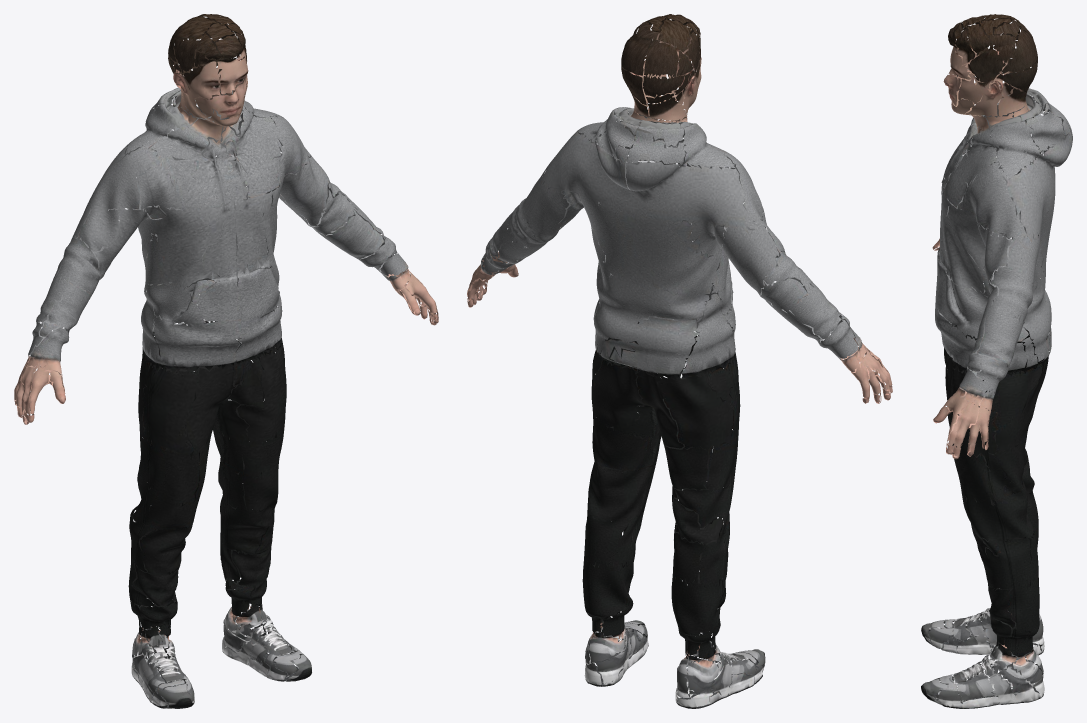
The model's file is man.glb.
The picture shows the model from 3 angles, left to right: view 1: azimuth 30°, elevation 25°; view 2: azimuth 150°, elevation 25°; view 3: azimuth 270°, elevation 25°; orthographic projection.
Bounding box in the file's own units: 1.25 × 1.9 × 0.3989.
1 material, 1 textured.
